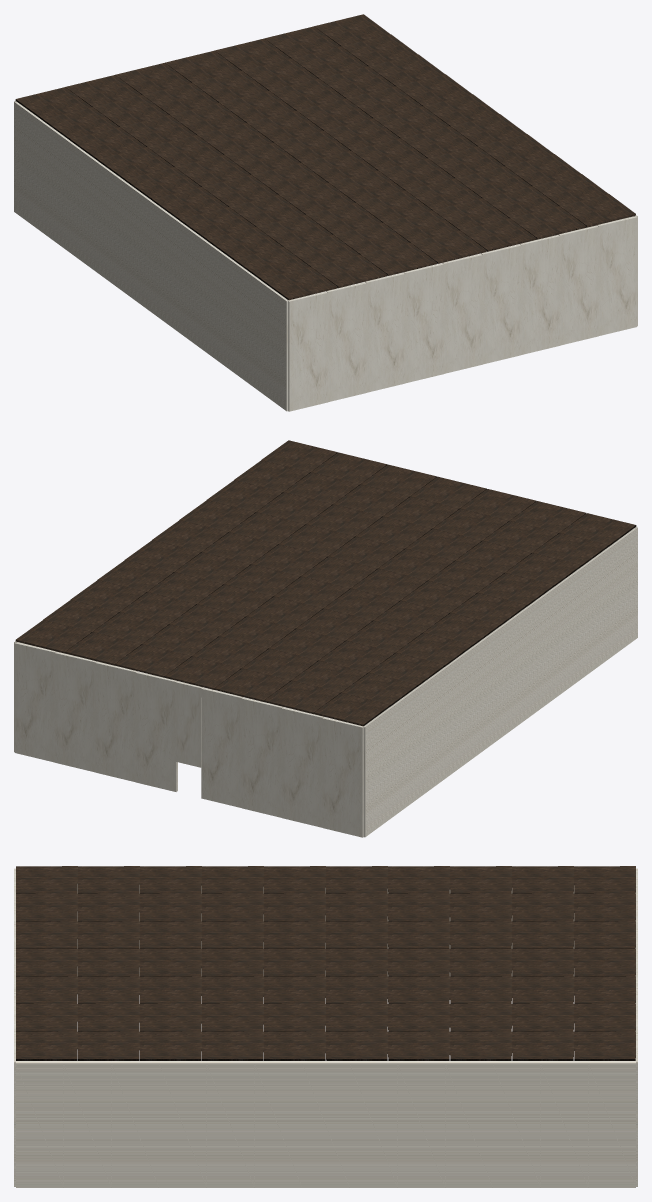
The model's file is int-shell-meetinghouse-hero.glb.
3 renders of one model, top to bottom at view 1: azimuth 30°, elevation 25°; view 2: azimuth 150°, elevation 25°; view 3: azimuth 270°, elevation 25°, orthographic. The views are drawn at different scales.
Parts seen in each view (by area): view 1: ceiling_backing_00_00; view 2: ceiling_backing_00_00; view 3: ceiling_backing_00_00.
Boxes of the visible parts, x1,y1,x2,y2 form: ceiling_backing_00_00: (14,14,637,411); ceiling_backing_00_00: (14,440,637,837); ceiling_backing_00_00: (14,866,637,1187).
Size of the model in its own units: 28.24 by 8.64 by 38.24.
2 materials, 2 textured.
